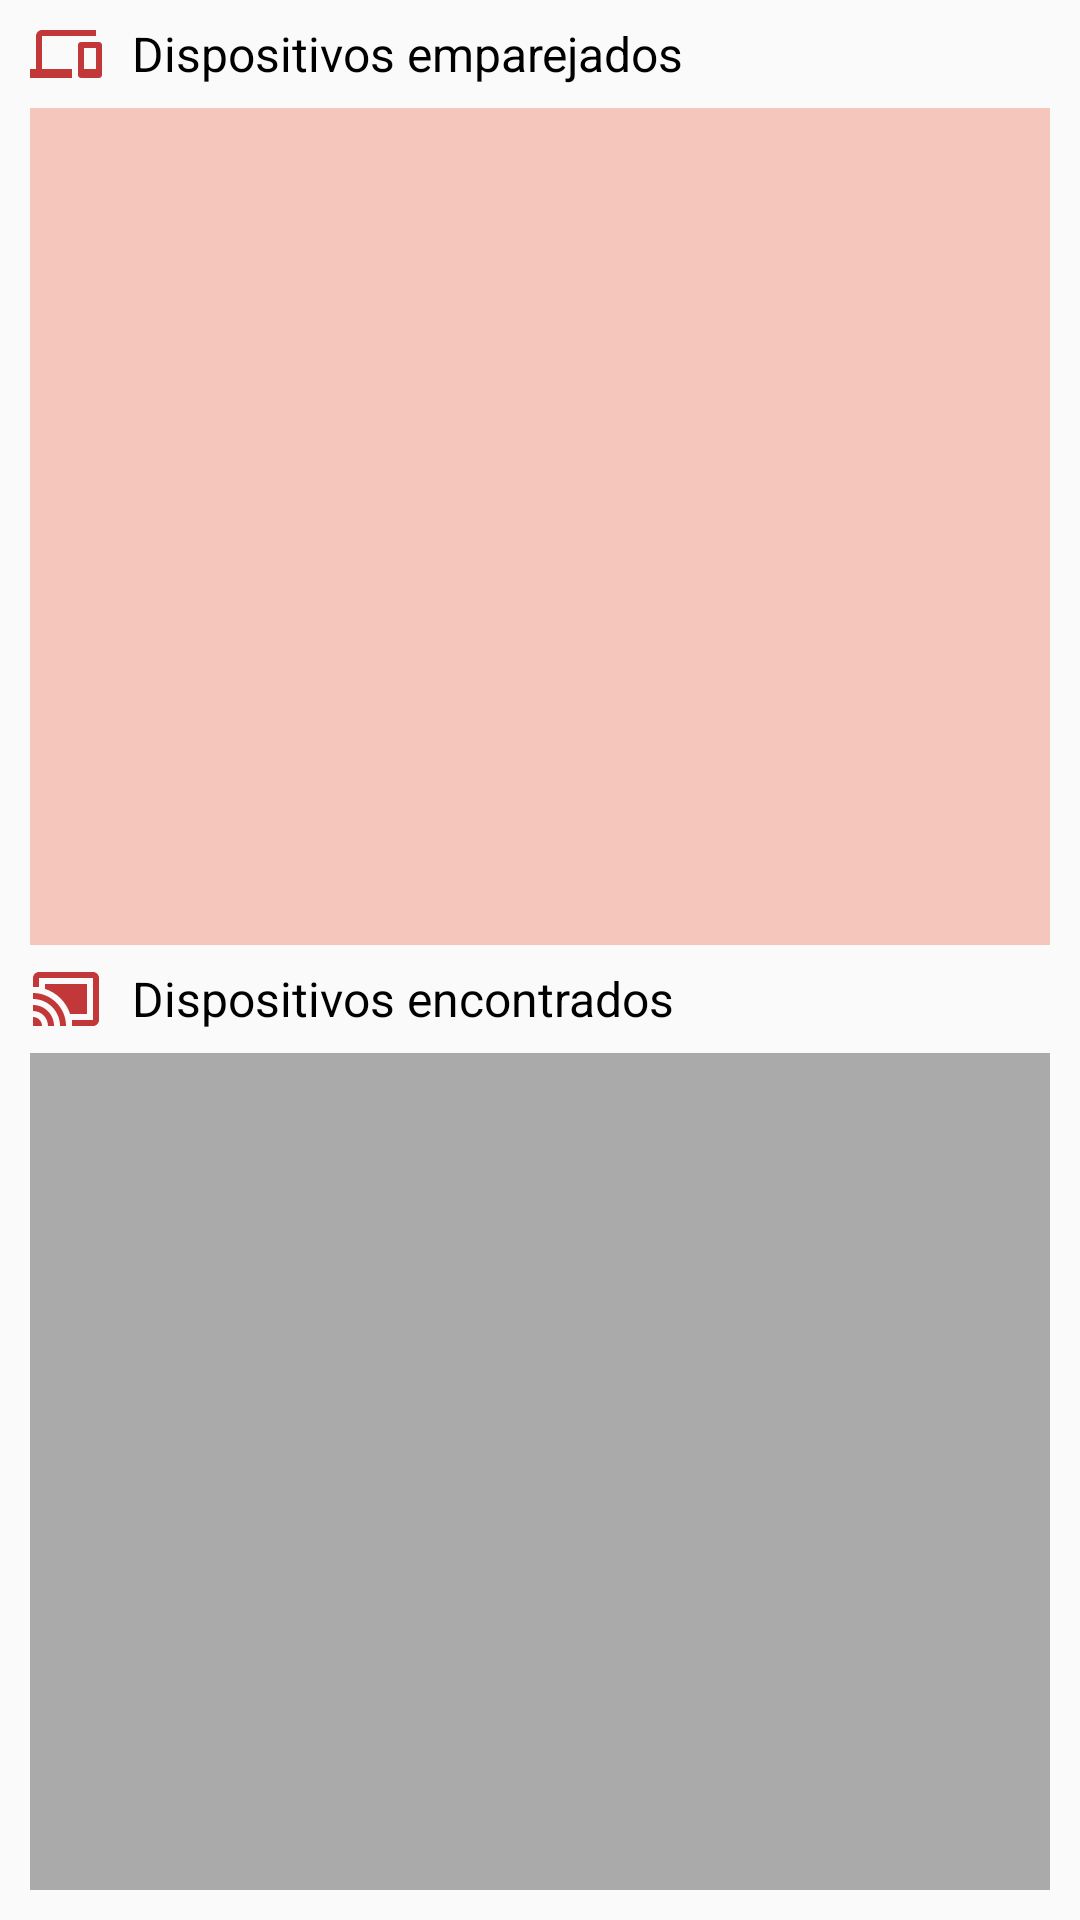

Where to tap for icons on this 1080px x 1920px app screen, as point (x, y):
devices connection: point (66, 54)
devices found: point (66, 999)
